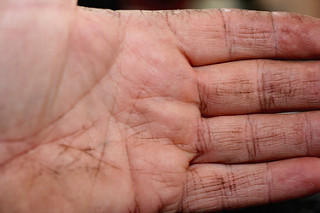palm: (7, 12, 194, 203)
